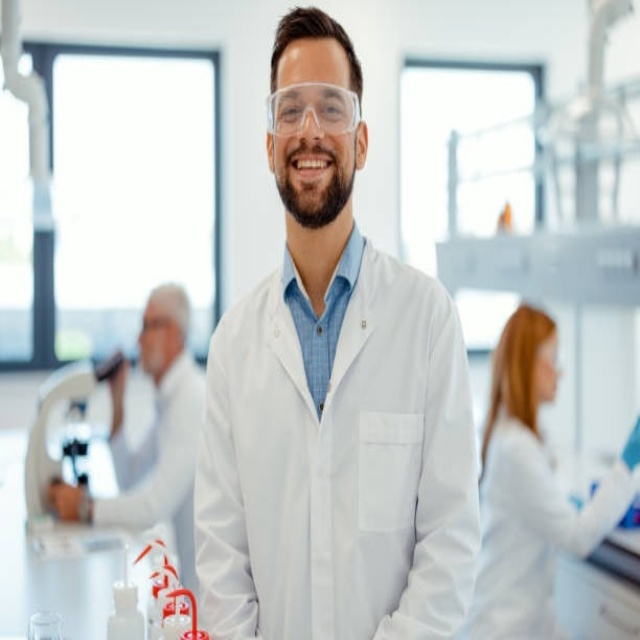Gafas: (265, 82, 361, 136), (538, 347, 563, 378), (139, 318, 172, 333)
Sin_guantes: (46, 478, 86, 523)
Sin_mascara: (284, 144, 338, 201)
